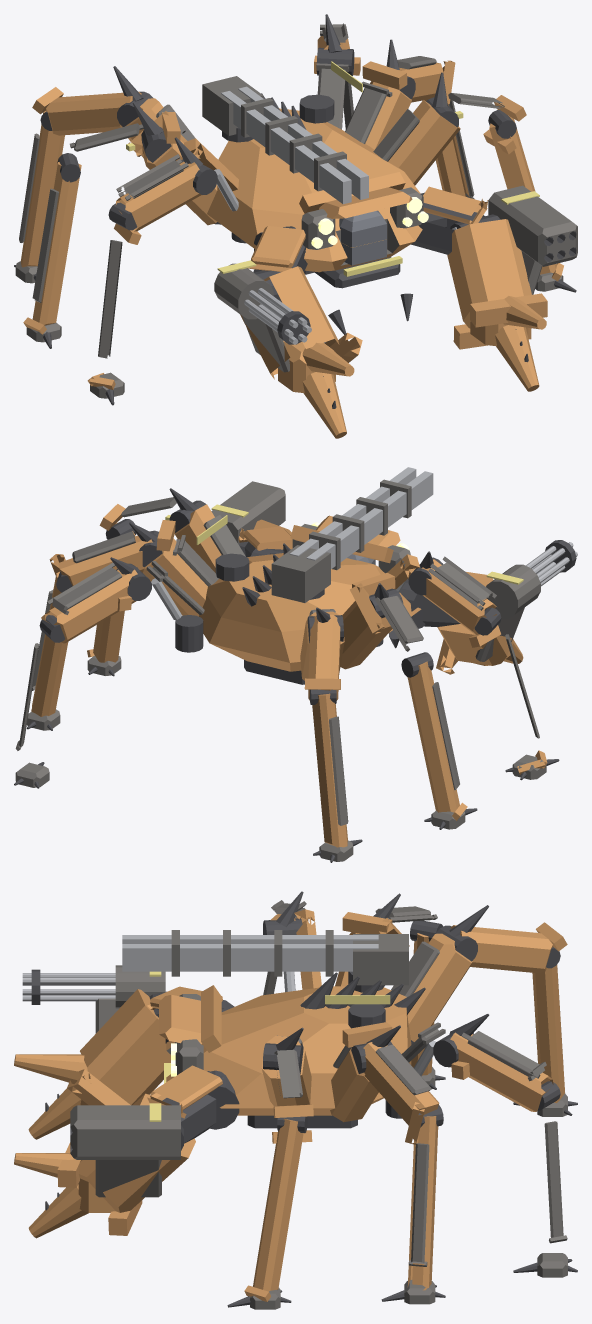
The model's file is skitter.glb.
3 renders of one model, top to bottom at view 1: azimuth 30°, elevation 25°; view 2: azimuth 150°, elevation 25°; view 3: azimuth 270°, elevation 25°, orthographic. The views are drawn at different scales.
Visible parts, largest first — view 1: carapace, fore1, rockets1_box, fore-1, tarsus1-1, tibia2-1, railgun-1_rail-0.45, tarsus2-1, femur01, tibia0-1, brow, femur11 (+38 smaller); view 2: carapace, tarsus1-1, femur1-1, tarsus2-1, railgun-1_rail-0.45, railgun-1_breech, rockets1_box, tibia21, tibia2-1, femur11, fore-1, tibia0-1 (+32 smaller); view 3: carapace, fore-1, rockets1_box, railgun-1_rail0.45, tarsus01, tibia2-1, fore1, brow, femur2-1, tibia21, femur11, tarsus2-1 (+38 smaller).
Part boxes in pixels (x1,y1,x2,y2): carapace: (207,108,422,272); fore1: (447,219,547,349); rockets1_box: (488,185,577,266); fore-1: (240,266,362,379); tarsus1-1: (23,162,81,334); tibia2-1: (32,87,141,135); railgun-1_rail-0.45: (221,91,351,204); tarsus2-1: (20,111,64,267); femur01: (388,100,460,185); tibia0-1: (114,161,201,244); brow: (299,172,412,218); femur11: (362,61,411,149); carapace: (199,553,421,671); tarsus1-1: (407,661,467,820); femur1-1: (340,573,395,669); tarsus2-1: (312,693,347,847); railgun-1_rail-0.45: (306,471,433,568); railgun-1_breech: (271,545,330,602); rockets1_box: (211,481,285,544); tibia21: (41,569,137,643); tibia2-1: (304,614,340,700); femur11: (143,520,207,616); fore-1: (436,572,511,674); tibia0-1: (421,559,500,647); carapace: (166,986,411,1115); fore-1: (67,989,170,1105); rockets1_box: (70,1105,180,1159); railgun-1_rail0.45: (122,944,378,971); tarsus01: (244,1118,303,1301); tibia2-1: (450,922,567,973); fore1: (57,1093,195,1235); brow: (159,985,221,1052); femur2-1: (407,933,472,1041); tibia21: (450,1032,553,1111); femur11: (330,1022,392,1122); tarsus2-1: (532,964,564,1103).
Bounding box in the file's own units: 24.72 × 11.05 × 24.19.
